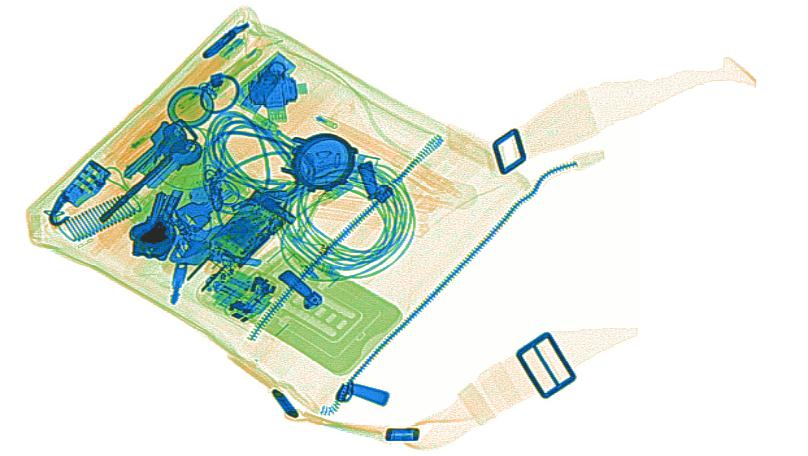USBFlashDisk: (233, 51, 309, 125)
